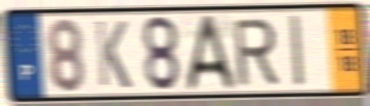8: (45, 16, 87, 95), (140, 14, 181, 94)
A: (184, 12, 238, 93)
I: (287, 12, 307, 90)
K: (93, 18, 134, 91)
R: (231, 15, 281, 88)
